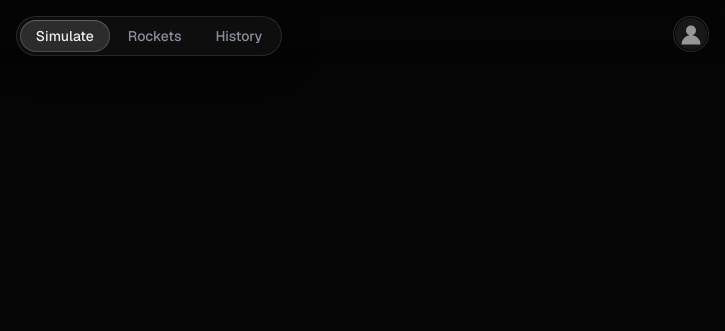
Scenario: AccountMenu › says so when the reset email could not be sent
Click the button named "Account": (691, 34) 673,16 -> 709,52
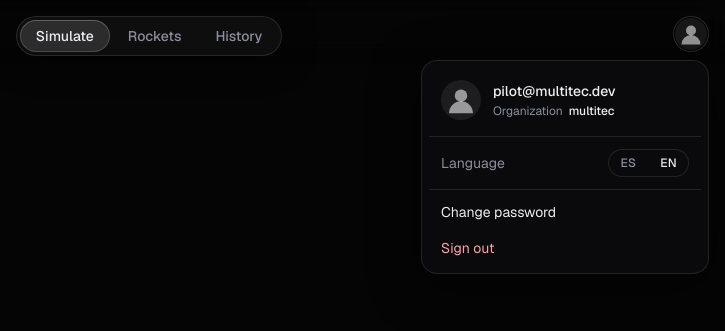
Click the button "Change password": (499, 212) 429,194 -> 701,230
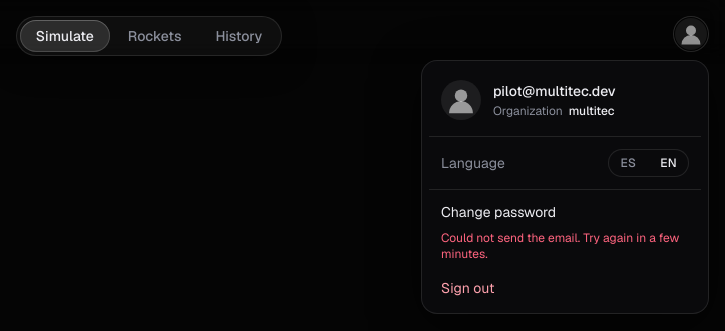
Check: the text "Could not send the email. Try again in a few minutes." is shown, box 429,230 -> 701,270
